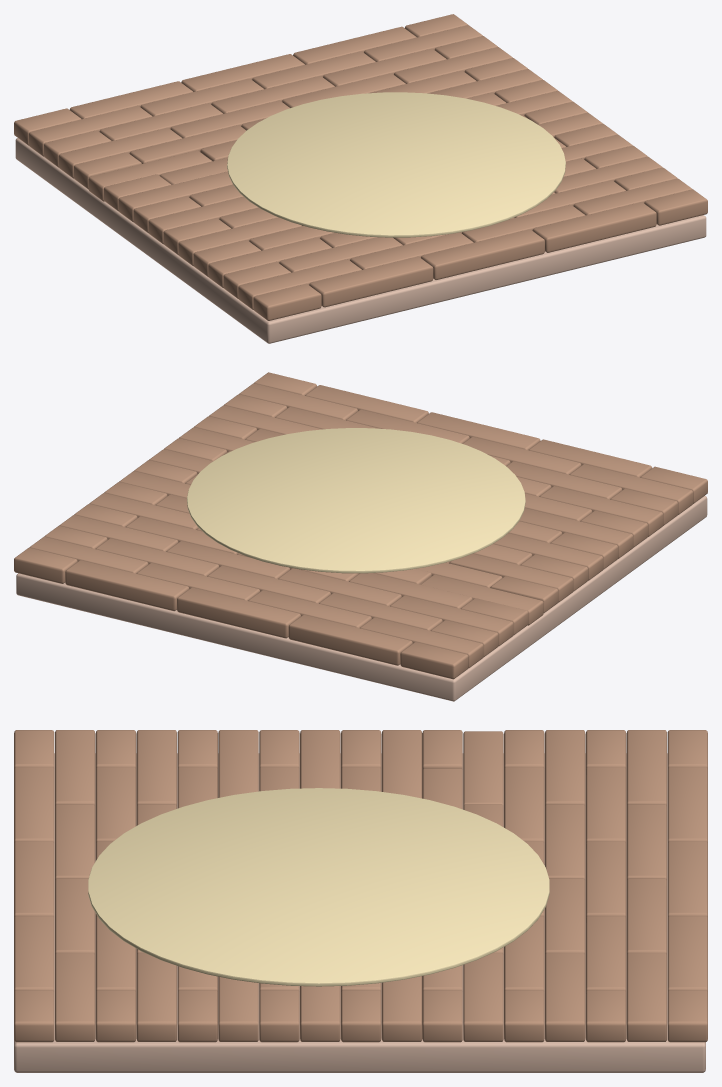
Rendered from floor.gltf.
3 renders of one model, top to bottom at view 1: azimuth 30°, elevation 25°; view 2: azimuth 150°, elevation 25°; view 3: azimuth 270°, elevation 25°, orthographic. The views are drawn at different scales.
Visible parts, largest first — view 1: Cylinder, Cube, Cube.1 10 (×2), Cube.1 6 (×2), Cube.1 5 (×2), Cube.1 7 (×2), Cube.1 11 (×2), Cube.1 30, Cube.1 20, Cube.1 36 (×2), Cube.1 35 (×2), Cube.1 0 (×2) (+28 smaller); view 2: Cylinder, Cube, Cube.1 13 (×2), Cube.1 6 (×2), Cube.1 7 (×2), Cube.1 5 (×2), Cube.1 11 (×2), Cube.1 33, Cube.1 23, Cube.1 35 (×2), Cube.1 36 (×2), Cube.1 3 (×2) (+28 smaller); view 3: Cylinder, Cube, Cube.1 35 (×2), Cube.1 36 (×2), Cube.1 37 (×2), Cube.1 6 (×2), Cube.1 5 (×2), Cube.1 11 (×2), Cube.1 7 (×2), Cube.1 31 (×2), Cube.1 12 (×2), Cube.1 10 (×2) (+28 smaller).
Part boxes in pixels (box(x1,y1,x2,y2)): Cylinder: box(227, 92, 565, 237); Cube: box(15, 138, 706, 343); Cube.1 10 (×2): box(159, 158, 433, 307); Cube.1 6 (×2): box(58, 127, 331, 287); Cube.1 5 (×2): box(88, 150, 361, 309); Cube.1 7 (×2): box(28, 105, 301, 266); Cube.1 11 (×2): box(129, 125, 402, 272); Cube.1 30: box(532, 202, 656, 252); Cube.1 20: box(421, 229, 544, 279); Cube.1 36 (×2): box(394, 47, 662, 193); Cube.1 35 (×2): box(427, 69, 692, 215); Cube.1 0 (×2): box(104, 174, 321, 320); Cylinder: box(187, 428, 525, 573); Cube: box(16, 496, 707, 701); Cube.1 13 (×2): box(288, 521, 562, 665); Cube.1 6 (×2): box(390, 486, 663, 646); Cube.1 7 (×2): box(360, 508, 633, 668); Cube.1 5 (×2): box(421, 464, 693, 625); Cube.1 11 (×2): box(349, 461, 622, 608); Cube.1 33: box(65, 560, 189, 611); Cube.1 23: box(177, 587, 300, 638); Cube.1 35 (×2): box(89, 383, 357, 529); Cube.1 36 (×2): box(59, 405, 321, 551); Cube.1 3 (×2): box(400, 532, 617, 679); Cylinder: box(88, 788, 549, 986); Cube: box(14, 753, 705, 1072); Cube.1 35 (×2): box(55, 953, 503, 1041); Cube.1 36 (×2): box(136, 953, 585, 1041); Cube.1 37 (×2): box(218, 953, 666, 1041); Cube.1 6 (×2): box(136, 730, 585, 806); Cube.1 5 (×2): box(55, 730, 503, 806); Cube.1 11 (×2): box(95, 767, 544, 844); Cube.1 7 (×2): box(218, 730, 666, 806); Cube.1 31 (×2): box(95, 916, 544, 993); Cube.1 12 (×2): box(177, 767, 626, 844); Cube.1 10 (×2): box(14, 767, 462, 843).
Bounding box in the file's own units: 2.01 × 0.1792 × 2.01.
